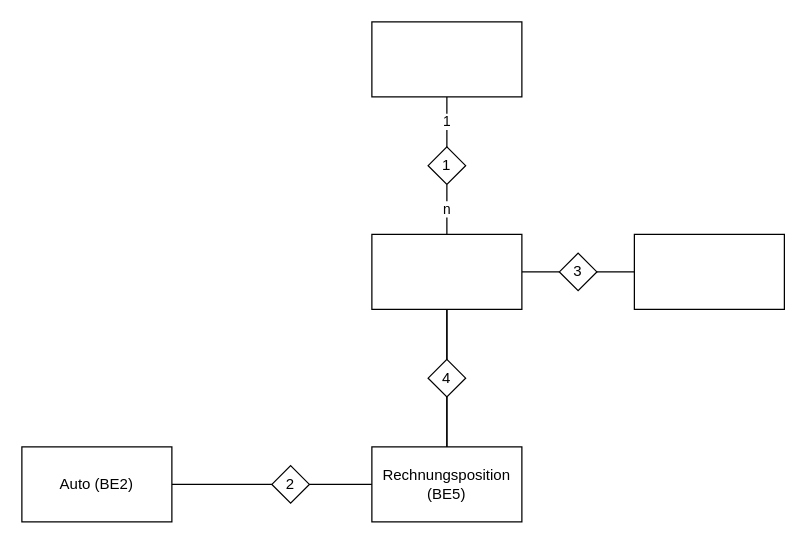
The diagram is 806 pixels wide and 544 high, and some of its shapes have lost their labels. Each missing label, with the centre of its shape:
"Kunde(BE3)" goes at (x=708, y=271).
"Rechnung(BE4)" goes at (x=446, y=271).
"Verkäufer(BE1)" goes at (x=446, y=59).
